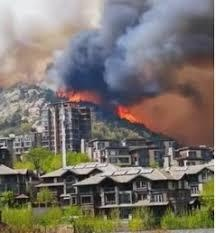fire: (56, 84, 102, 103)
